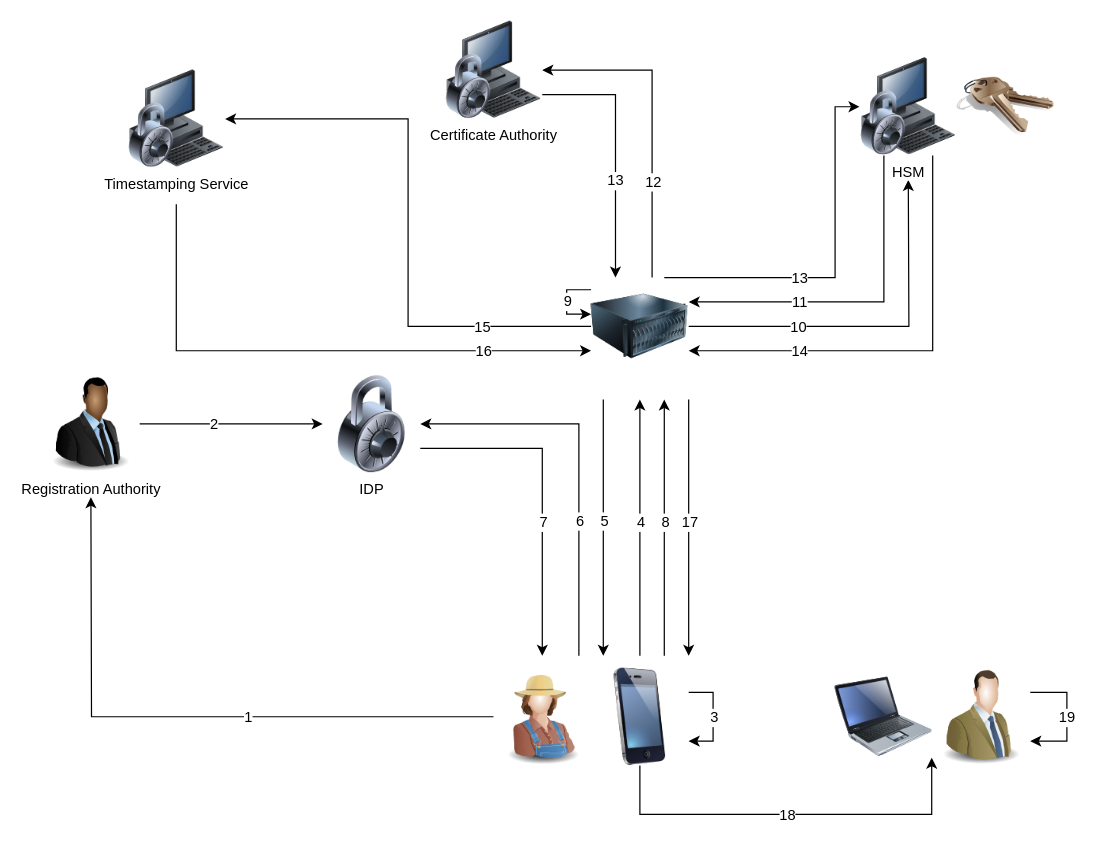
Image size: 1098x845. Some labels were removed from this diagram. The shapes that lost their labels are listed below. From the top down, each one's centre as x and y in pixels, then its label:
(x=639, y=326): Signing Service
(x=541, y=716): Signer
(x=981, y=716): Verifier
